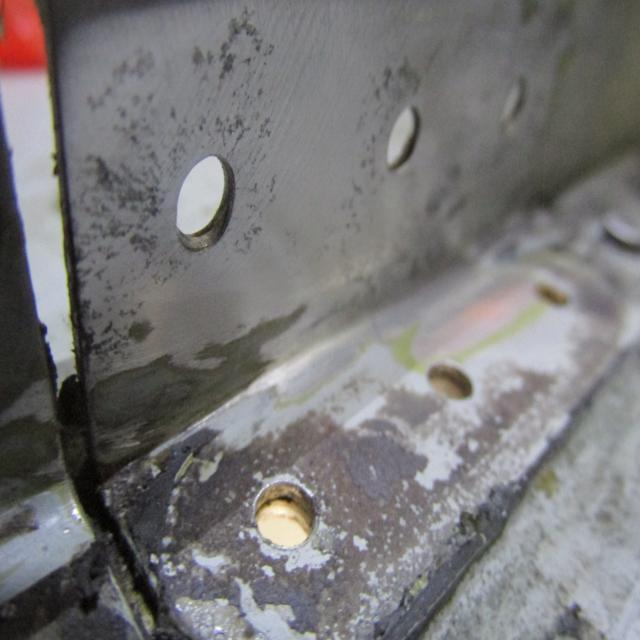Missing Fastener: (152, 133, 272, 274), (234, 417, 334, 568), (376, 94, 428, 178), (417, 346, 481, 409), (495, 73, 537, 141), (522, 278, 578, 310)
